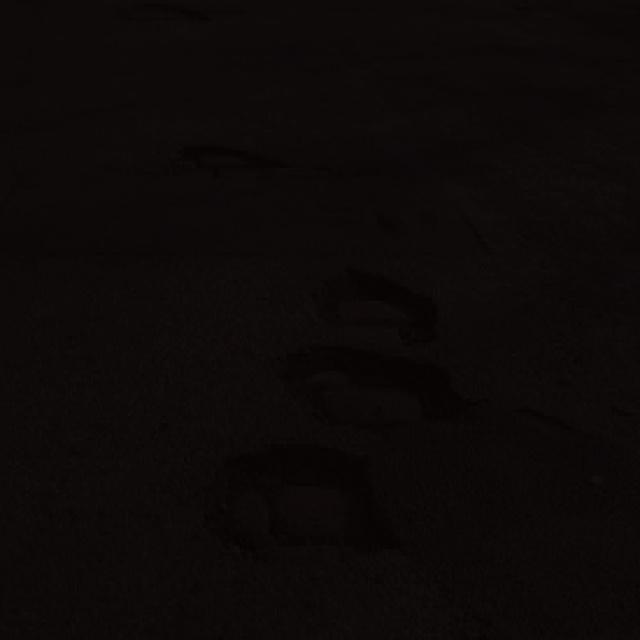Pothole: (198, 436, 407, 563), (285, 338, 475, 437), (314, 257, 452, 348), (174, 134, 294, 190), (111, 2, 218, 33)
